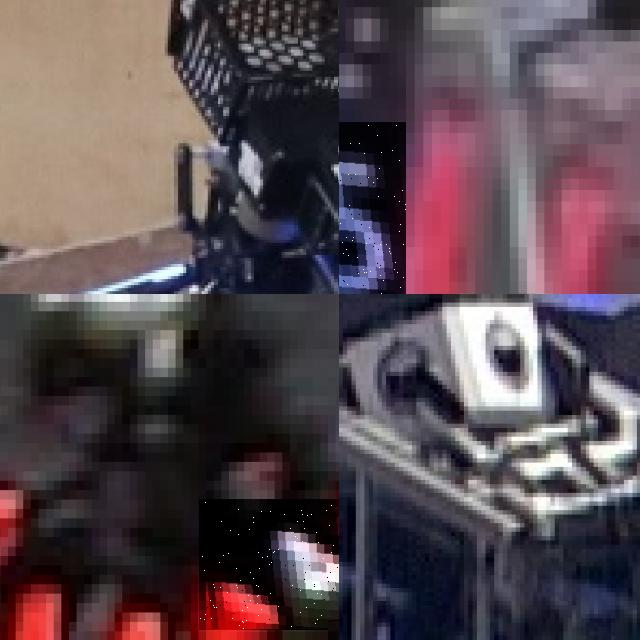B5: (339, 121, 406, 294)
R4: (198, 499, 339, 631), (8, 575, 175, 640)
